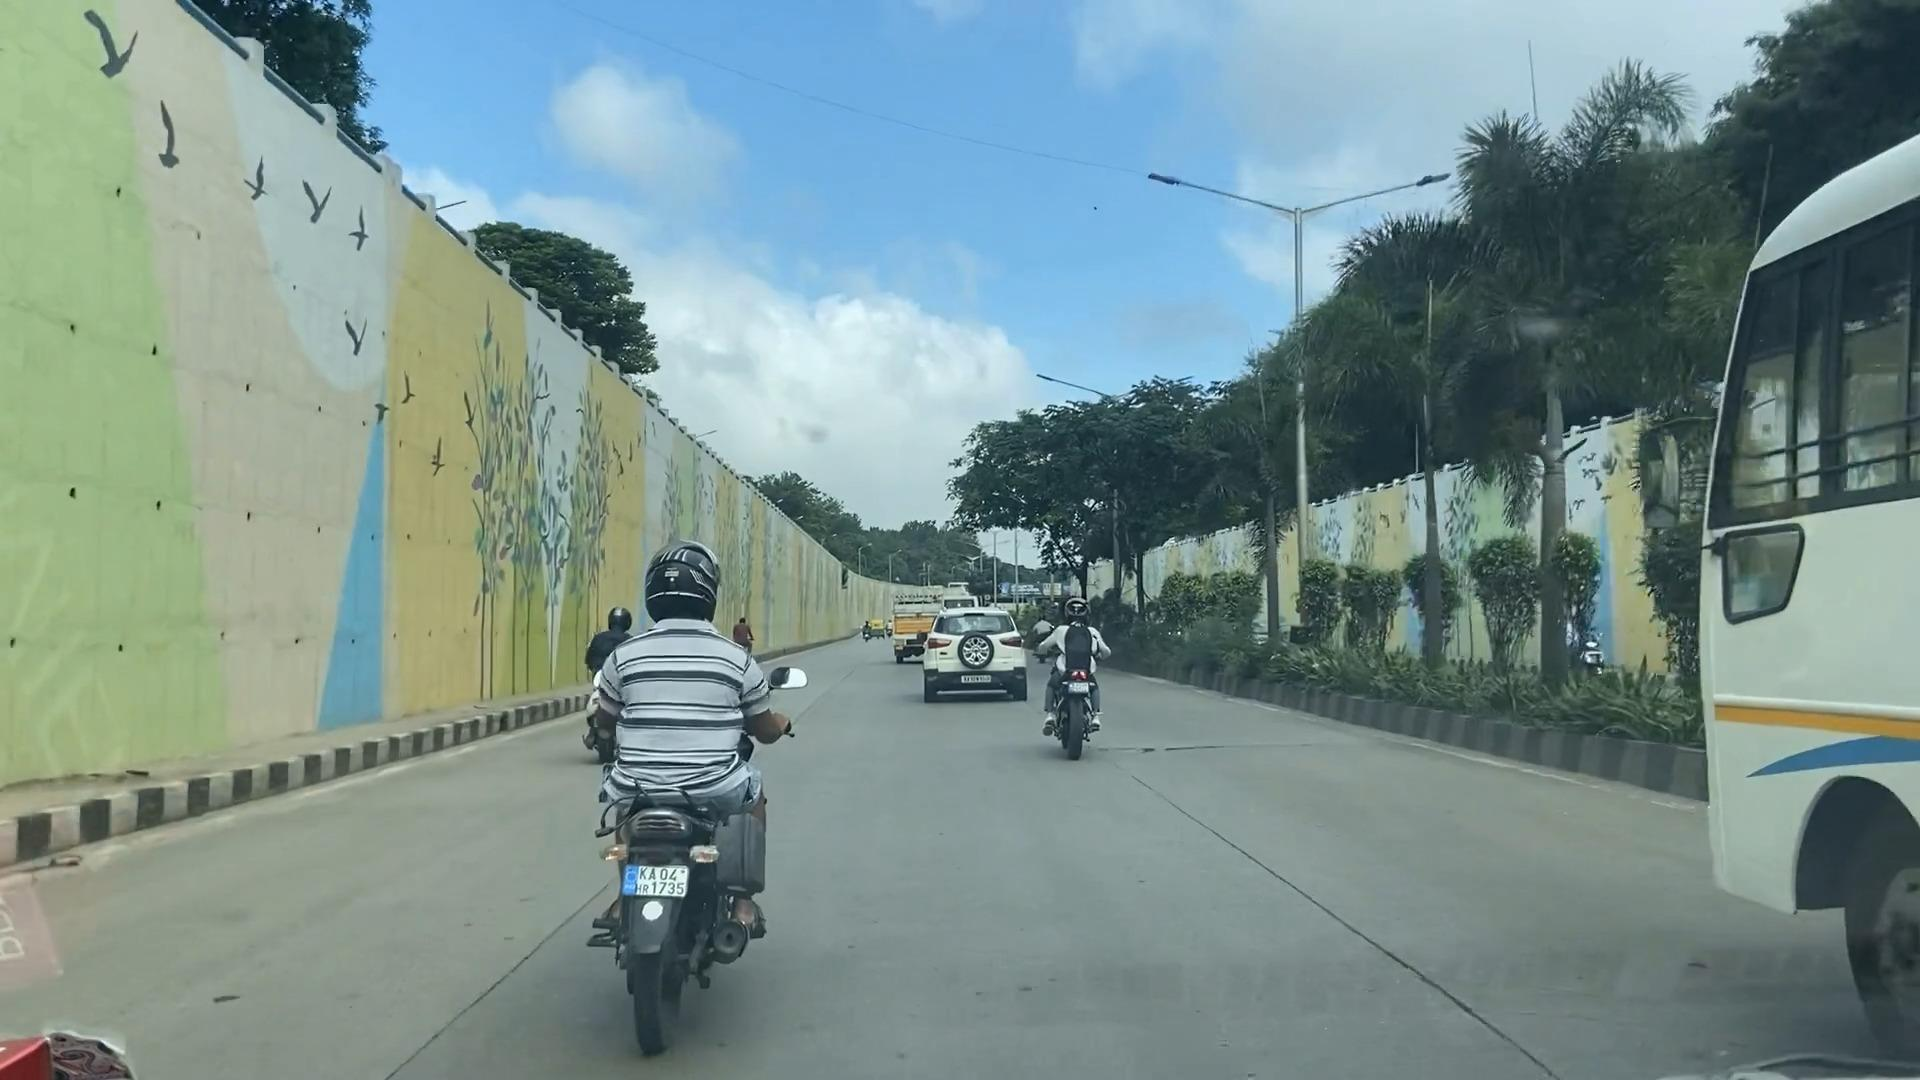LMV: (596, 530, 774, 982), (920, 603, 1019, 695), (1048, 600, 1104, 758)
